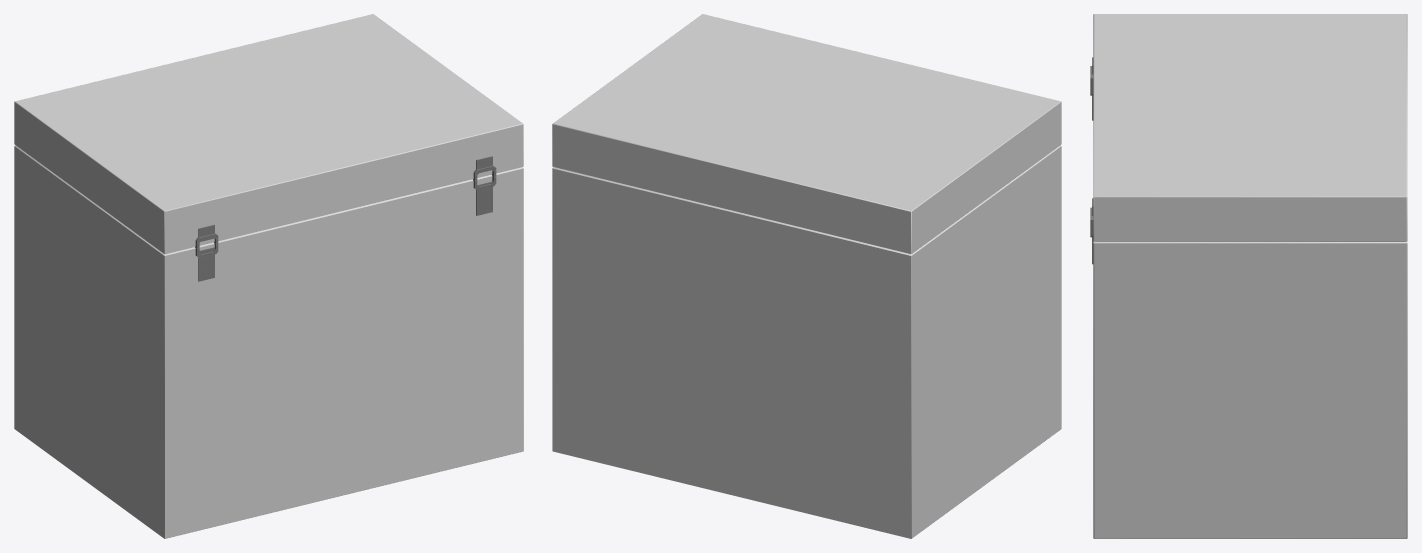
Rendered from Big metal box.FBX.
The picture shows the model from 3 angles, left to right: view 1: azimuth 30°, elevation 25°; view 2: azimuth 150°, elevation 25°; view 3: azimuth 270°, elevation 25°; orthographic projection. The views are drawn at different scales.
Parts seen in each view (by area): view 1: Big metal box; view 2: Big metal box; view 3: Big metal box.
Part boxes in pixels (x1,y1,x2,y2): Big metal box: (14,14,523,538); Big metal box: (552,14,1061,538); Big metal box: (1090,14,1407,538).
Size of the model in its own units: 151 by 132 by 110.
Materials: 2 (1 with a texture image).
